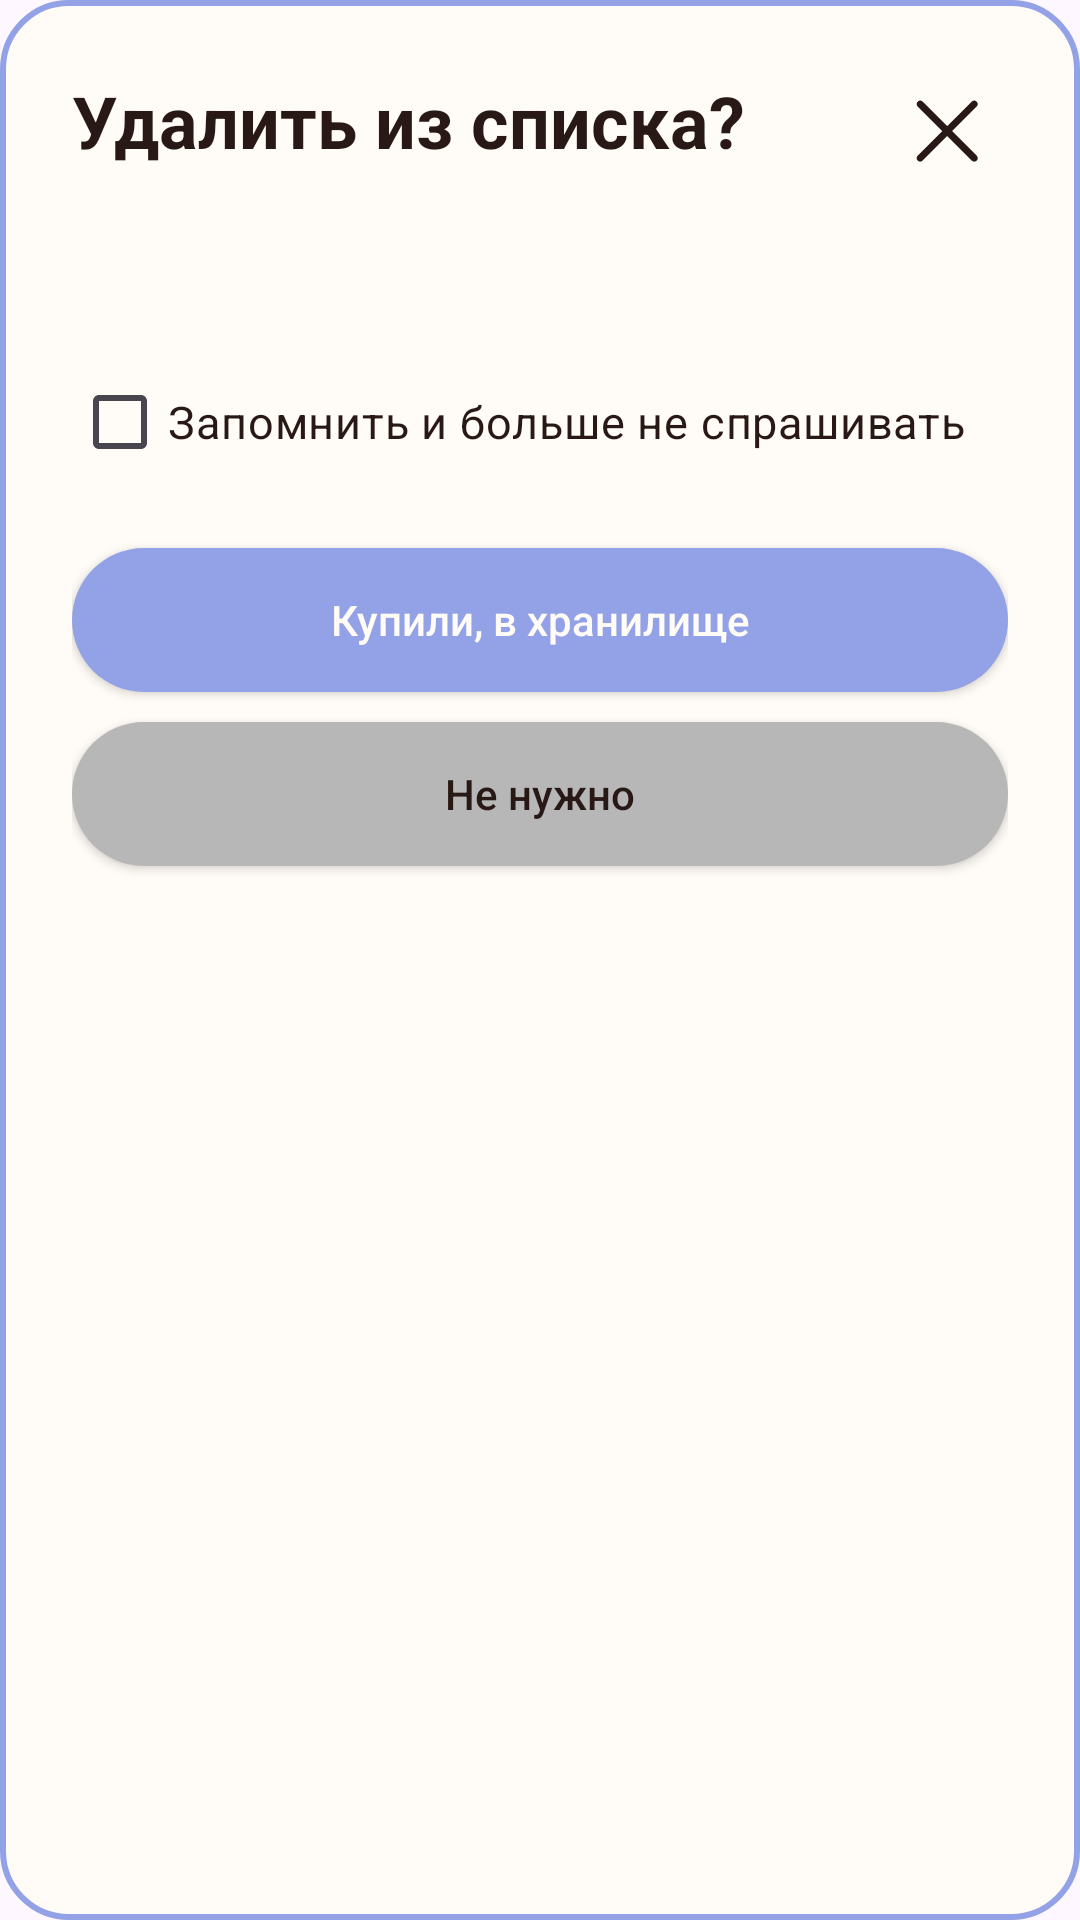

Where to tap for icons on this 1080px×1920px app screen, as [x,y]:
close: [947,131]
